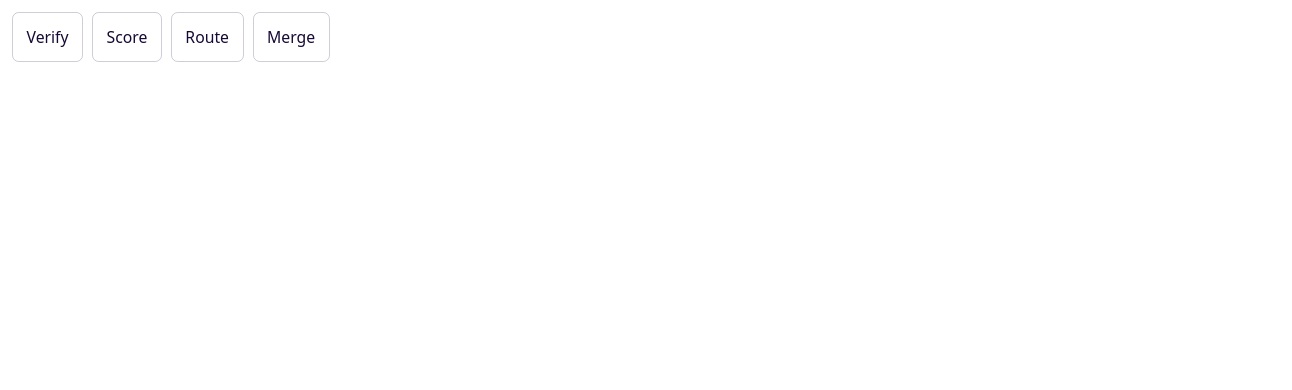
Scenario: CandidateActionPanel › requires the duplicate-of id to be a valid UUID before merge can submit
The image size is (1292, 390).
Click the button "Merge" at (291, 37), box [252,12,330,62]
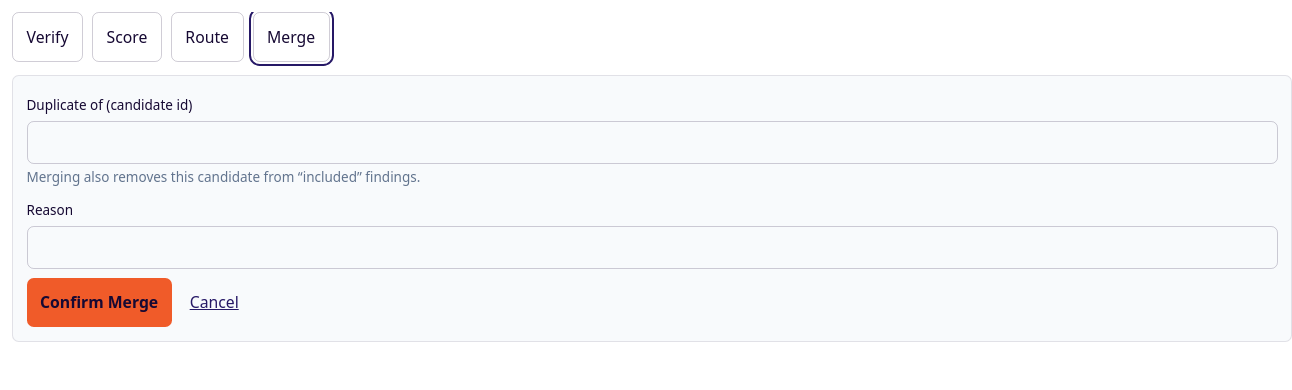
Type "not-a-uuid" into the field labelled "Duplicate of (candidate id)" at (652, 142), box [26,121,1278,164]
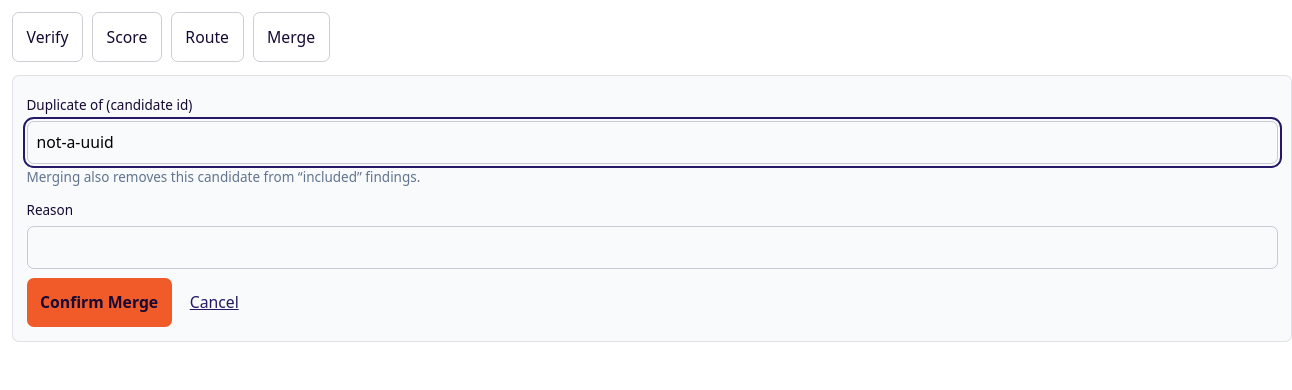
Type "duplicate" into the field labelled "Reason" at (652, 248), box [26,226,1278,269]
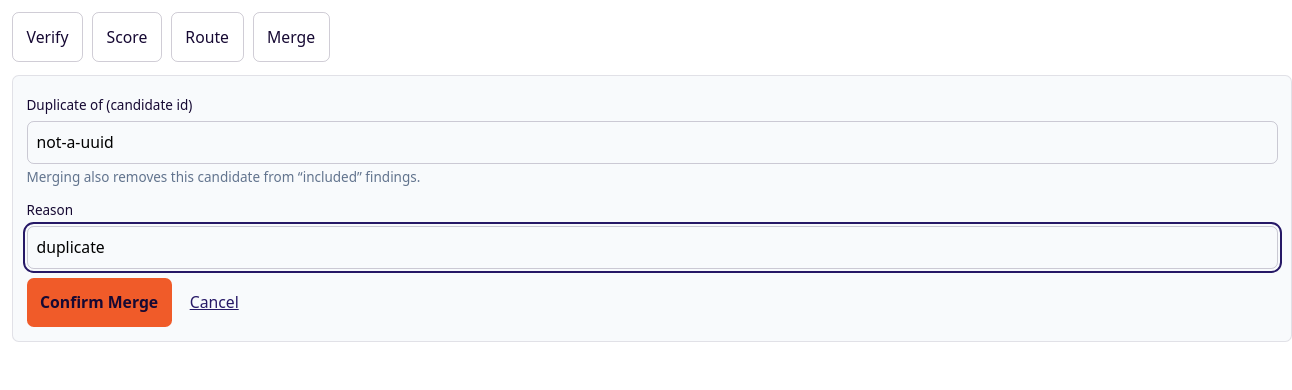
Click the button "Confirm Merge" at (99, 303), box [26,278,172,328]
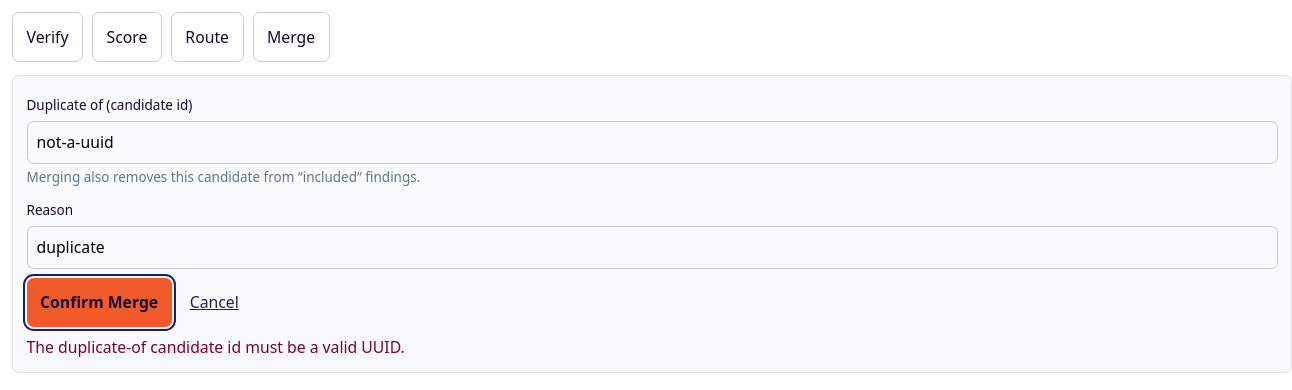
expect the message shows "must be a valid UUID": met, box [26,336,405,358]
